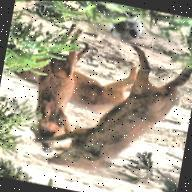boar: (17, 28, 120, 176)
